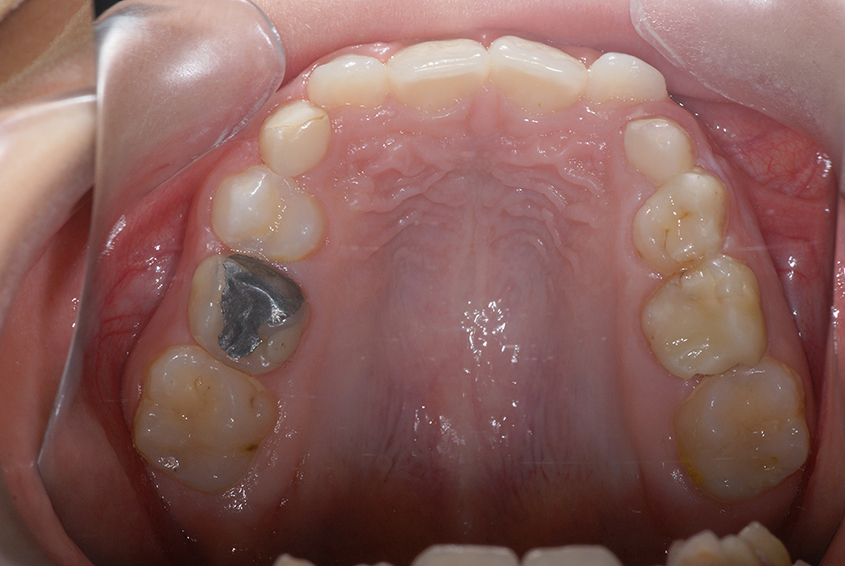UL1BC_healthy: (631, 177, 730, 261)
UL1M_healthy: (678, 378, 803, 491)
UL2BC_healthy: (646, 268, 764, 368)
ULCI_healthy: (488, 37, 587, 112)
ULC_healthy: (622, 118, 702, 179)
ULLI_healthy: (588, 49, 672, 110)
UR1BC_healthy: (212, 171, 326, 258)
UR1M_decay: (134, 351, 276, 484)
UR2BC_decay: (184, 250, 314, 371)
URCI_healthy: (391, 37, 489, 110)
URC_healthy: (259, 108, 332, 168)
URLI_healthy: (312, 55, 389, 116)
